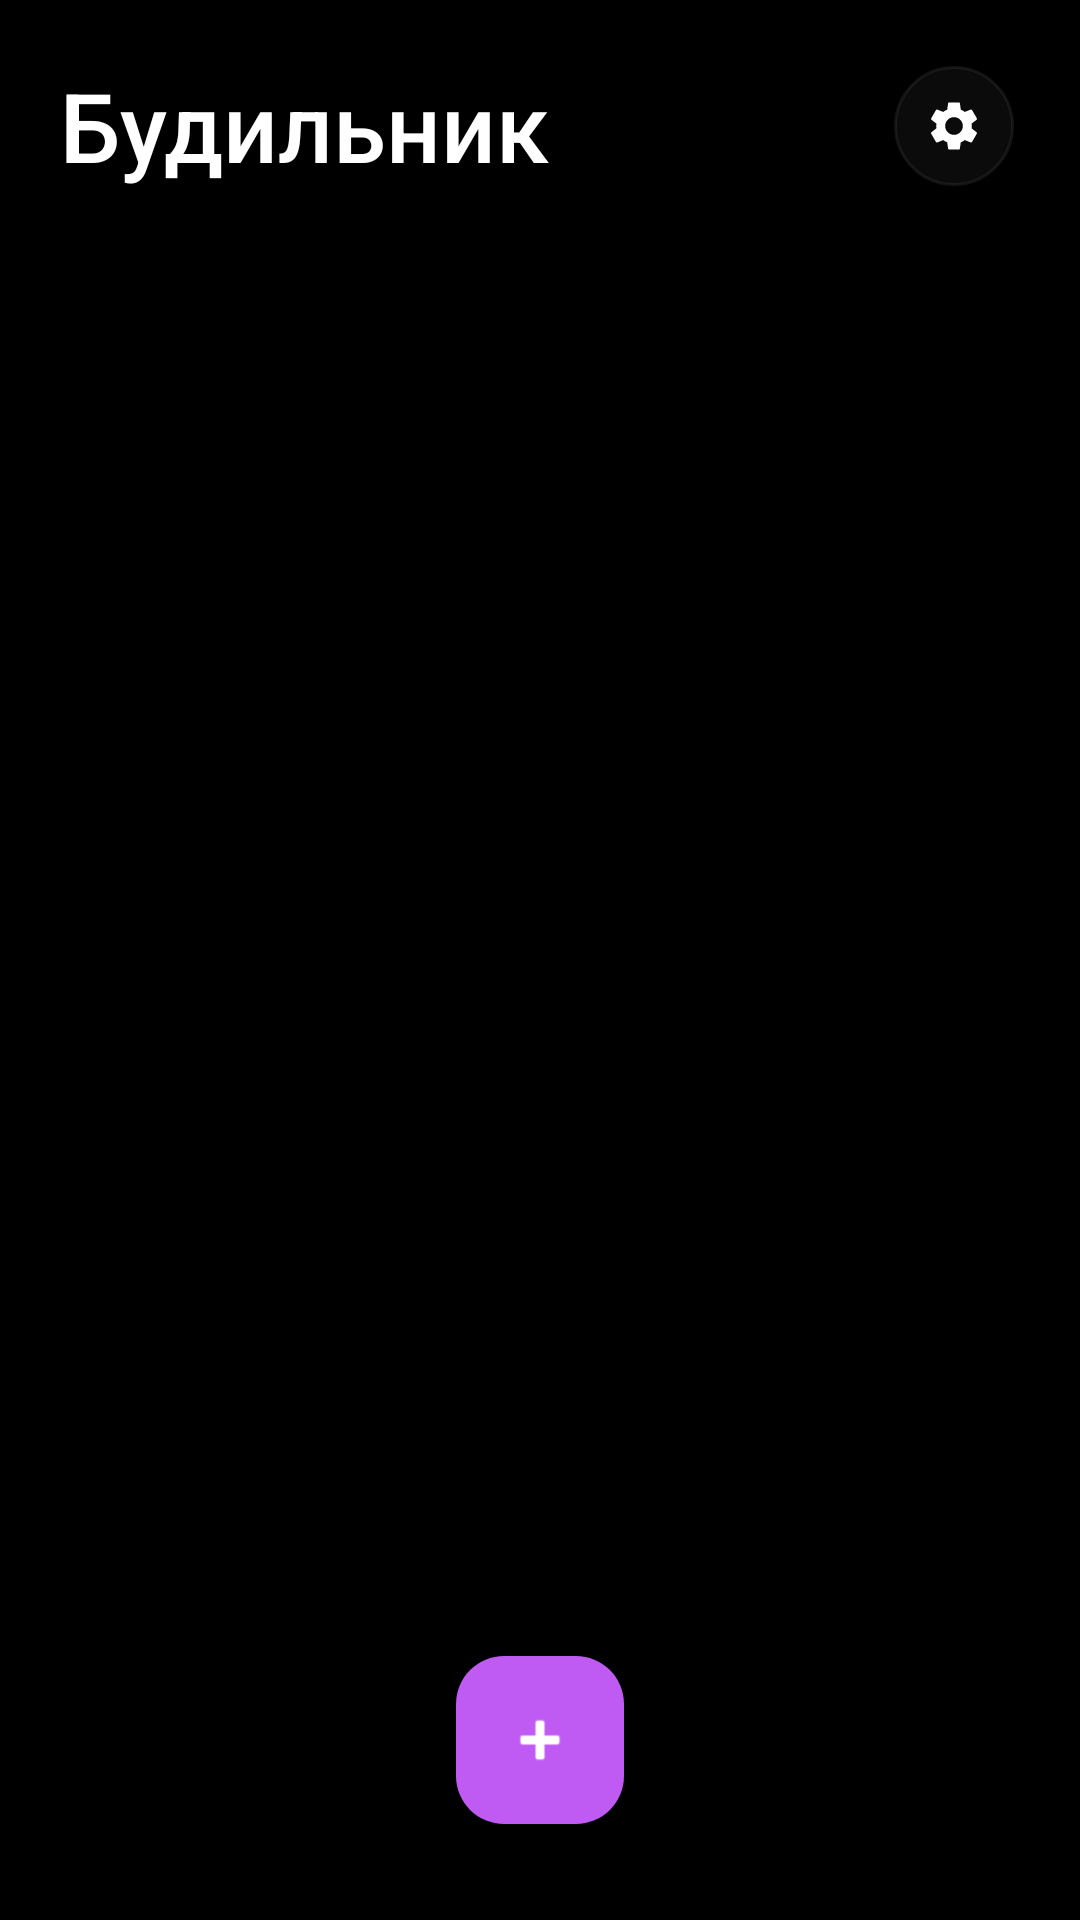

Point at icon controls on the screen. Image size 1080×1920, points as [x,y].
Додати будильник: [540,1740]
Налаштування: [954,126]
